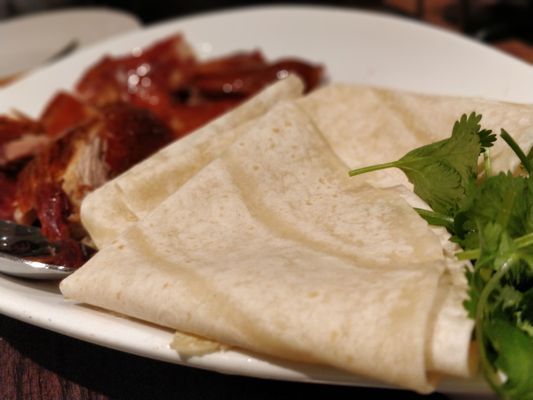soup: (64, 76, 519, 396)
